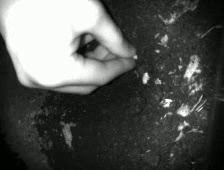corn: (140, 69, 150, 85), (129, 53, 138, 61)
